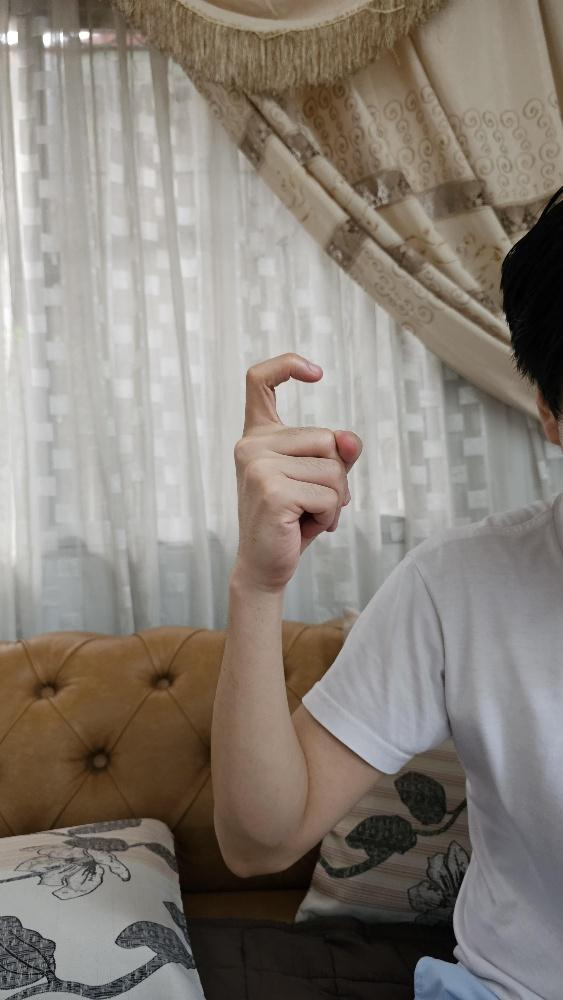x: (230, 349, 366, 593)
